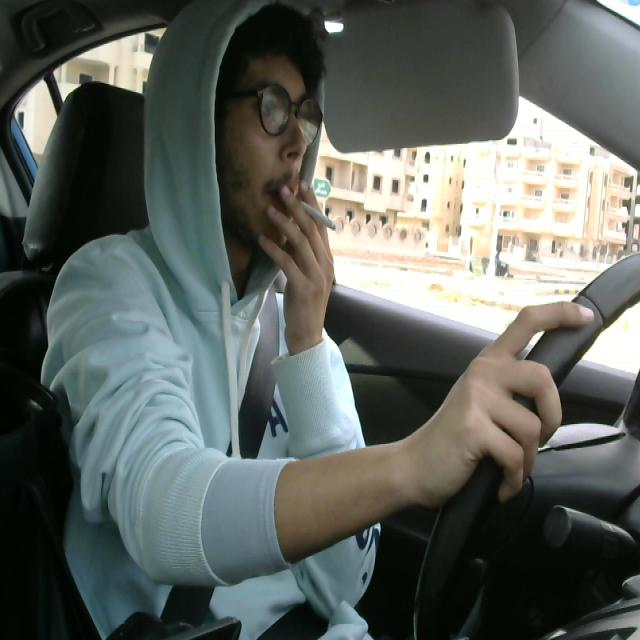smoking: (280, 184, 340, 240)
